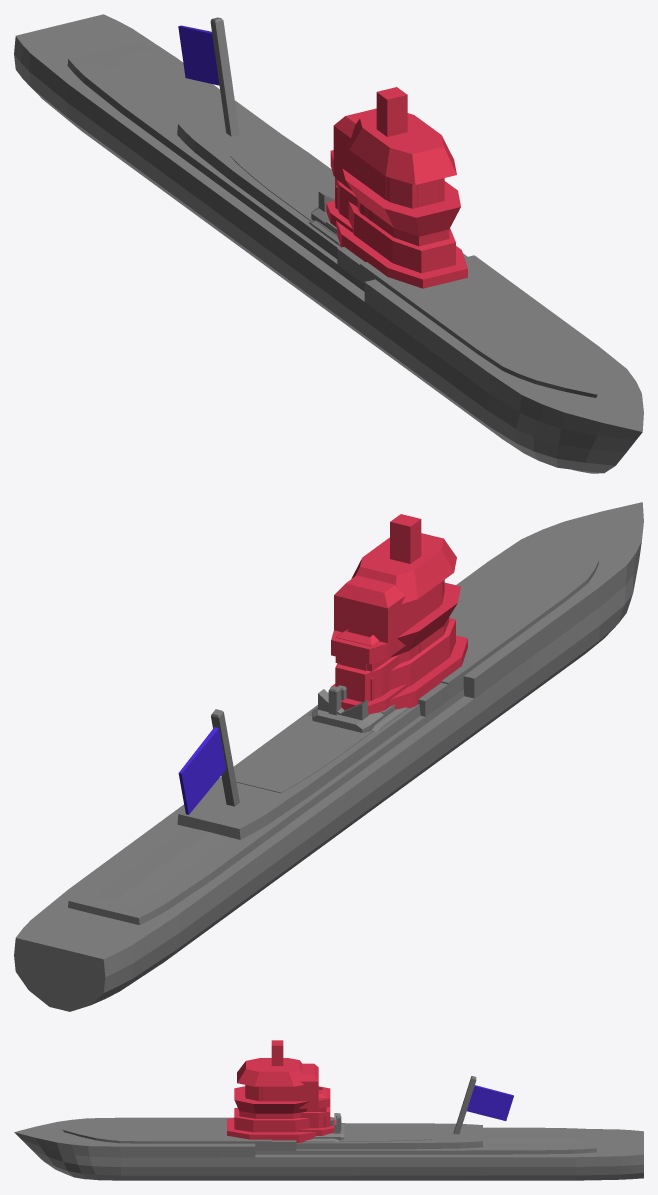
Rendered from shipgame.fbx.
3 renders of one model, top to bottom at view 1: azimuth 30°, elevation 25°; view 2: azimuth 150°, elevation 25°; view 3: azimuth 270°, elevation 25°, orthographic. The views are drawn at different scales.
Visible parts, largest first — view 1: Cruiser, SpecialDestroyer, TorpBoat, GunBoat, Destroyer, Flagship; view 2: Cruiser, SpecialDestroyer, Destroyer, TorpBoat, GunBoat, Flagship, DoubleHeavy; view 3: Cruiser, SpecialDestroyer, TorpBoat, Destroyer, GunBoat, Flagship, DoubleHeavy.
Boxes of the visible parts, bbox=[...] form: Cruiser: bbox=[14, 14, 643, 473]; SpecialDestroyer: bbox=[67, 41, 599, 397]; TorpBoat: bbox=[177, 109, 371, 258]; GunBoat: bbox=[230, 144, 351, 221]; Destroyer: bbox=[326, 108, 454, 336]; Flagship: bbox=[178, 17, 363, 215]; Cruiser: bbox=[14, 502, 643, 1011]; SpecialDestroyer: bbox=[68, 530, 600, 924]; Destroyer: bbox=[328, 575, 542, 717]; TorpBoat: bbox=[177, 642, 421, 839]; GunBoat: bbox=[235, 629, 391, 793]; Flagship: bbox=[178, 648, 413, 814]; DoubleHeavy: bbox=[312, 689, 395, 732]; Cruiser: bbox=[14, 1040, 643, 1180]; SpecialDestroyer: bbox=[62, 1085, 596, 1154]; TorpBoat: bbox=[282, 1114, 482, 1149]; Destroyer: bbox=[271, 1063, 335, 1150]; GunBoat: bbox=[305, 1087, 432, 1141]; Flagship: bbox=[290, 1076, 513, 1134]; DoubleHeavy: bbox=[314, 1113, 344, 1140].
Size of the model in its own units: 13299 by 27271 by 118533.
